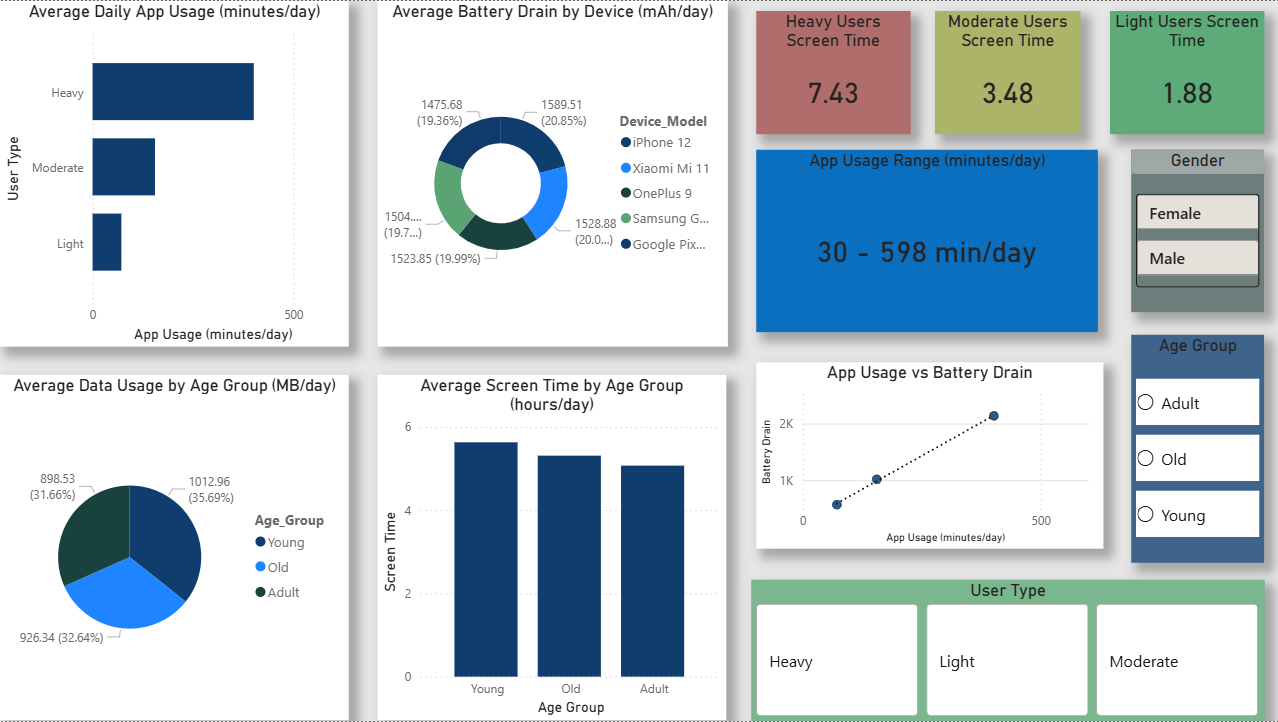

Layout of this report page (visuals, bound fields, positions):
{"tool":"powerbi","page":{"name":"Page 1","canvas":[1280,720],"ordinal":0},"visuals":[{"type":"barChart","title":"Average Daily App Usage (minutes/day)","fields":{"Category":["user_behavior_dataset.User_Type"],"Y":["Avg(user_behavior_dataset.App_Usage_Min_per_Day)"]},"box":[0,0,348.7,345.9],"z":0},{"type":"pieChart","title":"Average Data Usage by Age Group (MB/day)","fields":{"Category":["user_behavior_dataset.Age_Group"],"Y":["Avg(user_behavior_dataset.Data_Usage_MB)"]},"box":[0,373.9,348.7,345.9],"z":1000},{"type":"clusteredColumnChart","title":"Average Screen Time by Age Group (hours/day)","fields":{"Category":["user_behavior_dataset.Age_Group"],"Y":["Avg(user_behavior_dataset.Screen_On_Time_Hours)"]},"box":[378.1,373.9,348.7,345.9],"z":2000},{"type":"donutChart","title":"Average Battery Drain by Device (mAh/day)","fields":{"Y":["Avg(user_behavior_dataset.Battery_Drain )"],"Category":["user_behavior_dataset.Device_Model"]},"box":[378.1,0,350.1,345.9],"z":3000},{"type":"listSlicer","title":"Age Group","fields":{"Values":["user_behavior_dataset.Age_Group"]},"box":[1131.6,333.3,133,228.3],"z":4000},{"type":"cardVisual","title":"Gender","fields":{"Rows":["user_behavior_dataset.Gender"]},"box":[1131.6,148.4,133,162.5],"z":5000},{"type":"advancedSlicerVisual","title":"User Type","fields":{"Values":["user_behavior_dataset.User_Type"]},"box":[750.6,578.4,514,141.4],"z":6000},{"type":"kpi","title":"Heavy Users Screen Time","fields":{"TrendLine":["user_behavior_dataset.User_Type"],"Indicator":["Avg(user_behavior_dataset.Screen_On_Time_Hours)"]},"box":[756.2,9.8,154,123.2],"z":7000},{"type":"kpi","title":"Moderate Users Screen Time","fields":{"TrendLine":["user_behavior_dataset.User_Type"],"Indicator":["Avg(user_behavior_dataset.Screen_On_Time_Hours)"]},"box":[935.5,9.8,145.6,123.2],"z":8000},{"type":"kpi","title":"Light Users Screen Time","fields":{"TrendLine":["user_behavior_dataset.User_Type"],"Indicator":["Avg(user_behavior_dataset.Screen_On_Time_Hours)"]},"box":[1110.5,9.8,154,123.2],"z":9000},{"type":"scatterChart","title":"App Usage vs Battery Drain","fields":{"Category":["user_behavior_dataset.User_Type"],"X":["Avg(user_behavior_dataset.App_Usage_Min_per_Day)"],"Y":["Avg(user_behavior_dataset.Battery_Drain )"]},"box":[756.2,361.3,347.3,186.3],"z":10000},{"type":"card","title":"App Usage Range (minutes/day)","fields":{"Values":["user_behavior_dataset.App Usage Range"]},"box":[756.2,148.4,341.7,182.1],"z":11000}]}

Visuals, with their boxes in screenshot pixels (x1, y1, x2, y2), scaled from the page's 1280x720 canvas onto the 1278x722 screenshot:
"Average Daily App Usage (minutes/day)" barChart: {"x1": 0, "y1": 0, "x2": 348, "y2": 347}
"Average Data Usage by Age Group (MB/day)" pieChart: {"x1": 0, "y1": 375, "x2": 348, "y2": 721}
"Average Screen Time by Age Group (hours/day)" clusteredColumnChart: {"x1": 378, "y1": 375, "x2": 726, "y2": 721}
"Average Battery Drain by Device (mAh/day)" donutChart: {"x1": 378, "y1": 0, "x2": 727, "y2": 347}
"Age Group" listSlicer: {"x1": 1130, "y1": 334, "x2": 1263, "y2": 563}
"Gender" cardVisual: {"x1": 1130, "y1": 149, "x2": 1263, "y2": 312}
"User Type" advancedSlicerVisual: {"x1": 749, "y1": 580, "x2": 1263, "y2": 721}
"Heavy Users Screen Time" kpi: {"x1": 755, "y1": 10, "x2": 909, "y2": 133}
"Moderate Users Screen Time" kpi: {"x1": 934, "y1": 10, "x2": 1079, "y2": 133}
"Light Users Screen Time" kpi: {"x1": 1109, "y1": 10, "x2": 1263, "y2": 133}
"App Usage vs Battery Drain" scatterChart: {"x1": 755, "y1": 362, "x2": 1102, "y2": 549}
"App Usage Range (minutes/day)" card: {"x1": 755, "y1": 149, "x2": 1096, "y2": 331}
